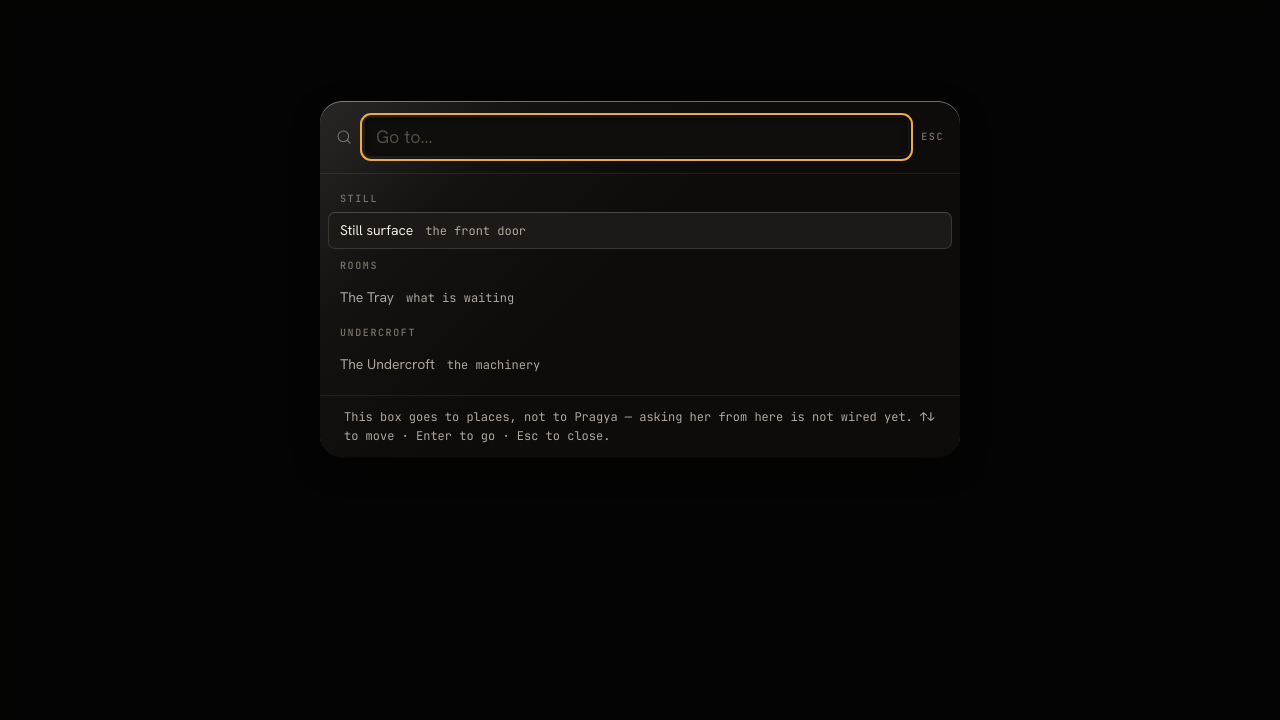
the navigator (N1) › says so when nothing matches, rather than showing an empty box
This screenshot has width=1280, height=720.
Type "zzz" into the dropdown named "Filter surfaces" at (637, 137), box left=364, top=117, right=909, bottom=157
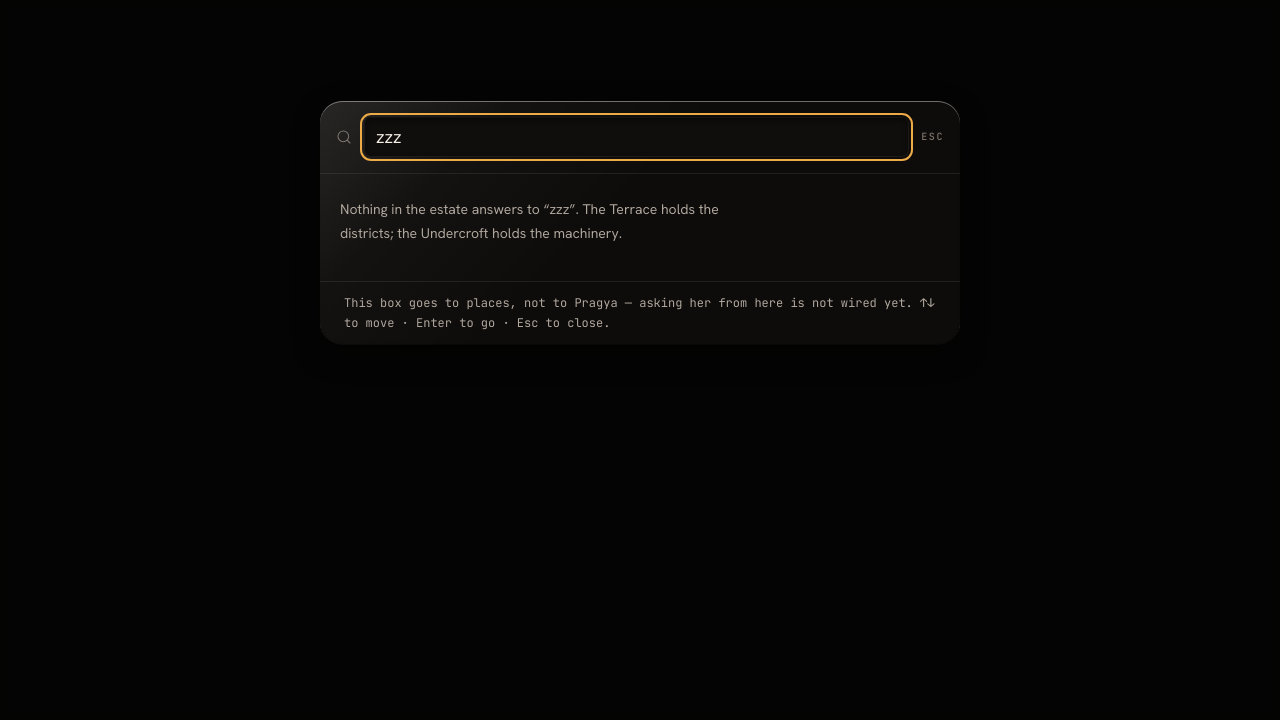
Result: no options are shown
Result: the text "Nothing in the estate" is shown at left=340, top=200, right=550, bottom=218
